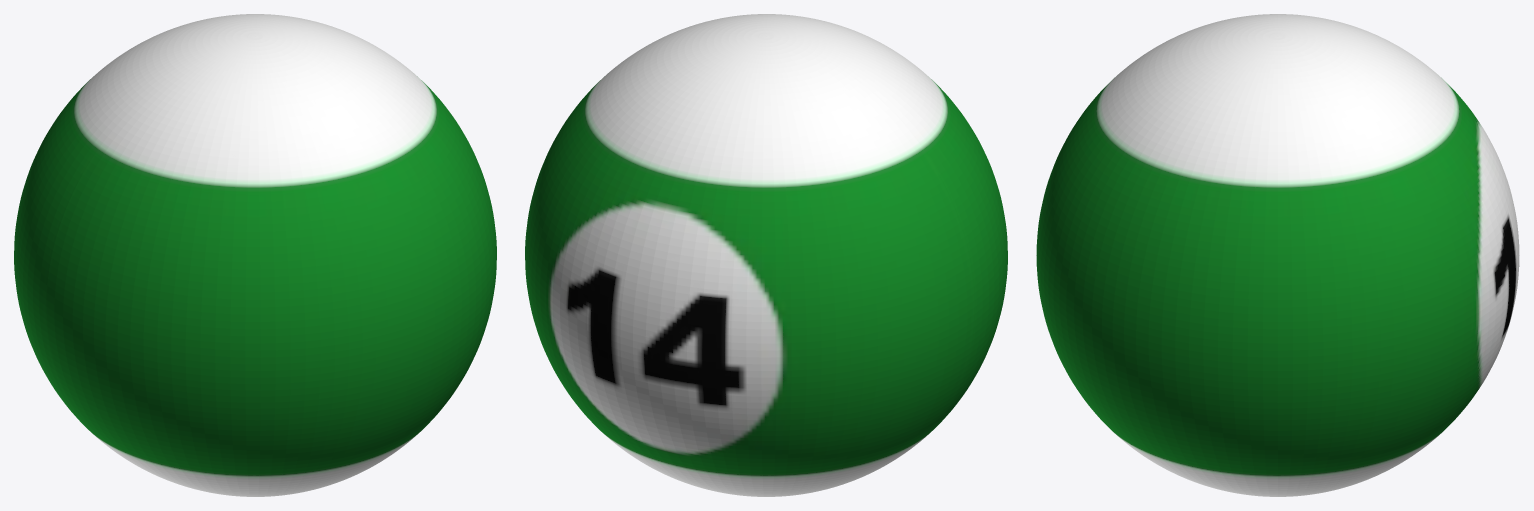
The model's file is FourteenBall.obj.
The picture shows the model from 3 angles, left to right: view 1: azimuth 30°, elevation 25°; view 2: azimuth 150°, elevation 25°; view 3: azimuth 270°, elevation 25°; orthographic projection.
Parts seen in each view (by area): view 1: Sphere; view 2: Sphere; view 3: Sphere.
Boxes of the visible parts, left/top/right/bottom form: Sphere: left=14, top=14, right=496, bottom=496; Sphere: left=525, top=14, right=1007, bottom=496; Sphere: left=1036, top=14, right=1519, bottom=496.
Size of the model in its own units: 2 by 2 by 2.
